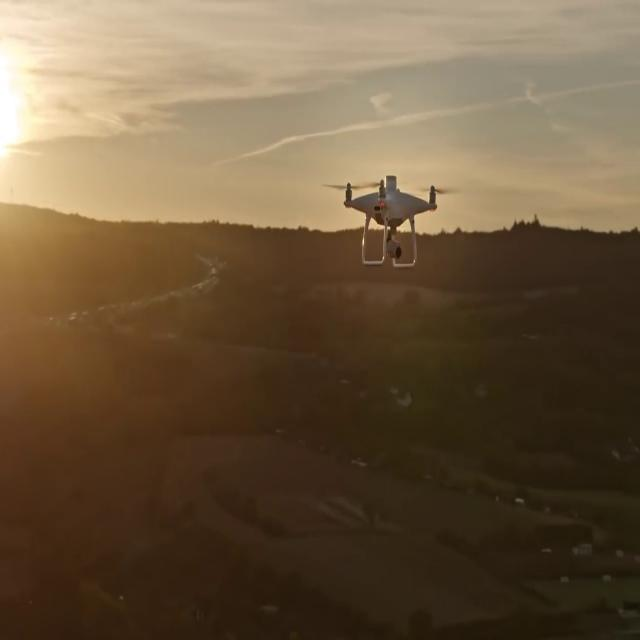drone: (319, 172, 461, 268)
